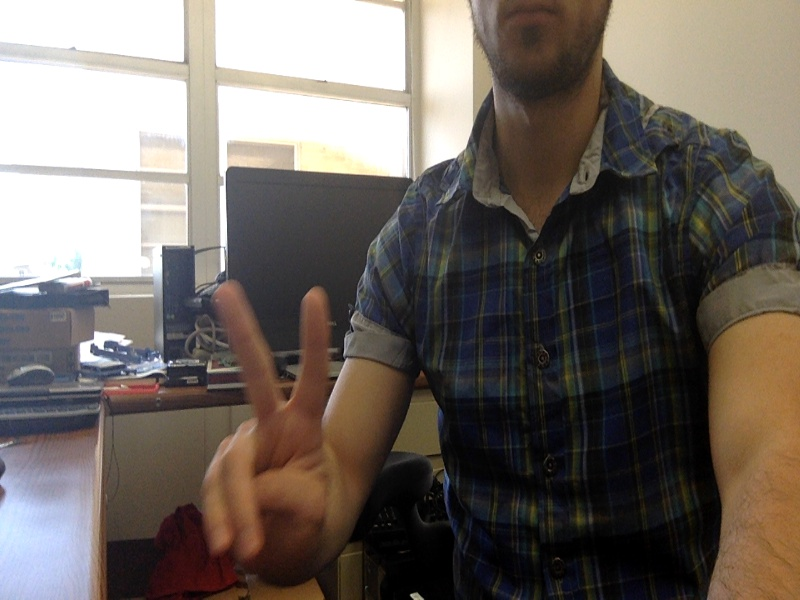2-hand: (208, 281, 339, 588)
